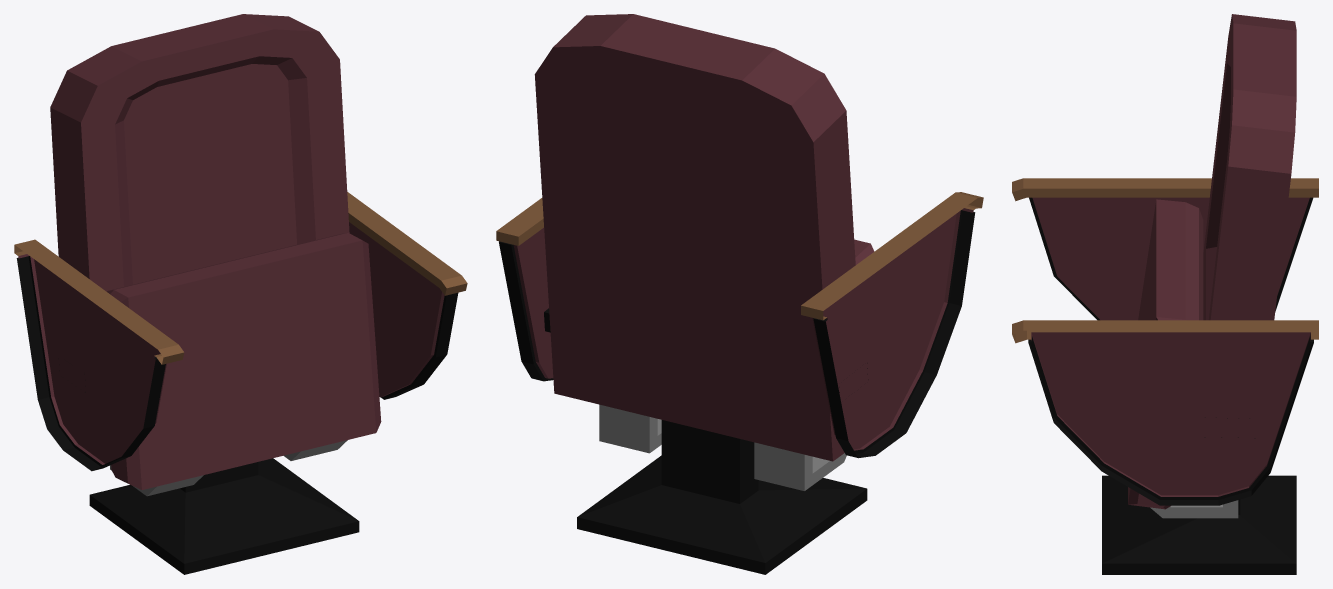
File: Int_CinemaChair01_3.fbx
3 renders of one model, left to right at view 1: azimuth 30°, elevation 25°; view 2: azimuth 150°, elevation 25°; view 3: azimuth 270°, elevation 25°, orthographic. The views are drawn at different scales.
Parts seen in each view (by area): view 1: Int_CinemaChair01_3; view 2: Int_CinemaChair01_3; view 3: Int_CinemaChair01_3.
Part boxes in pixels (bbox=[...]): Int_CinemaChair01_3: bbox=[14, 14, 467, 574]; Int_CinemaChair01_3: bbox=[496, 14, 983, 574]; Int_CinemaChair01_3: bbox=[1012, 14, 1318, 574].
Size of what is drawn, in the model's own units: 100 by 84.98 by 145.
